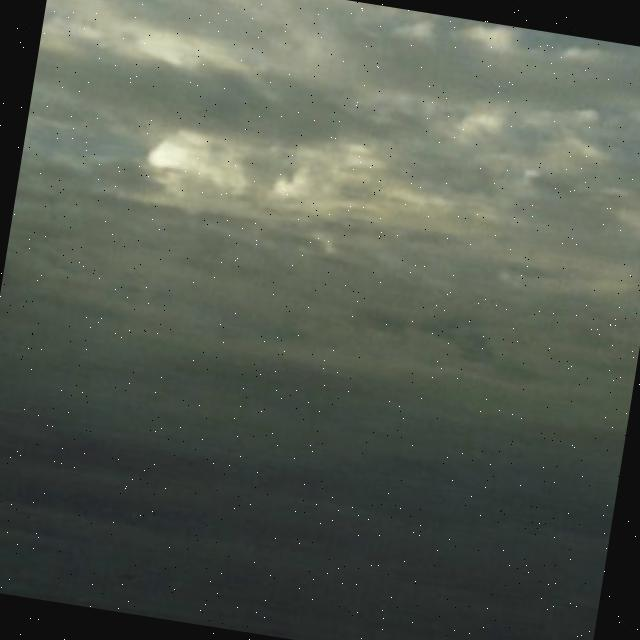Sc: (1, 1, 640, 536)
